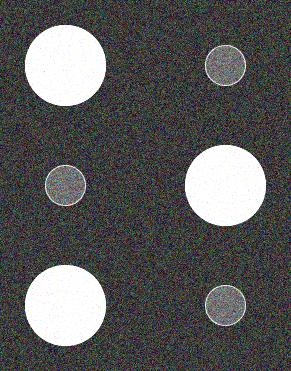O: (18, 17, 271, 356)
